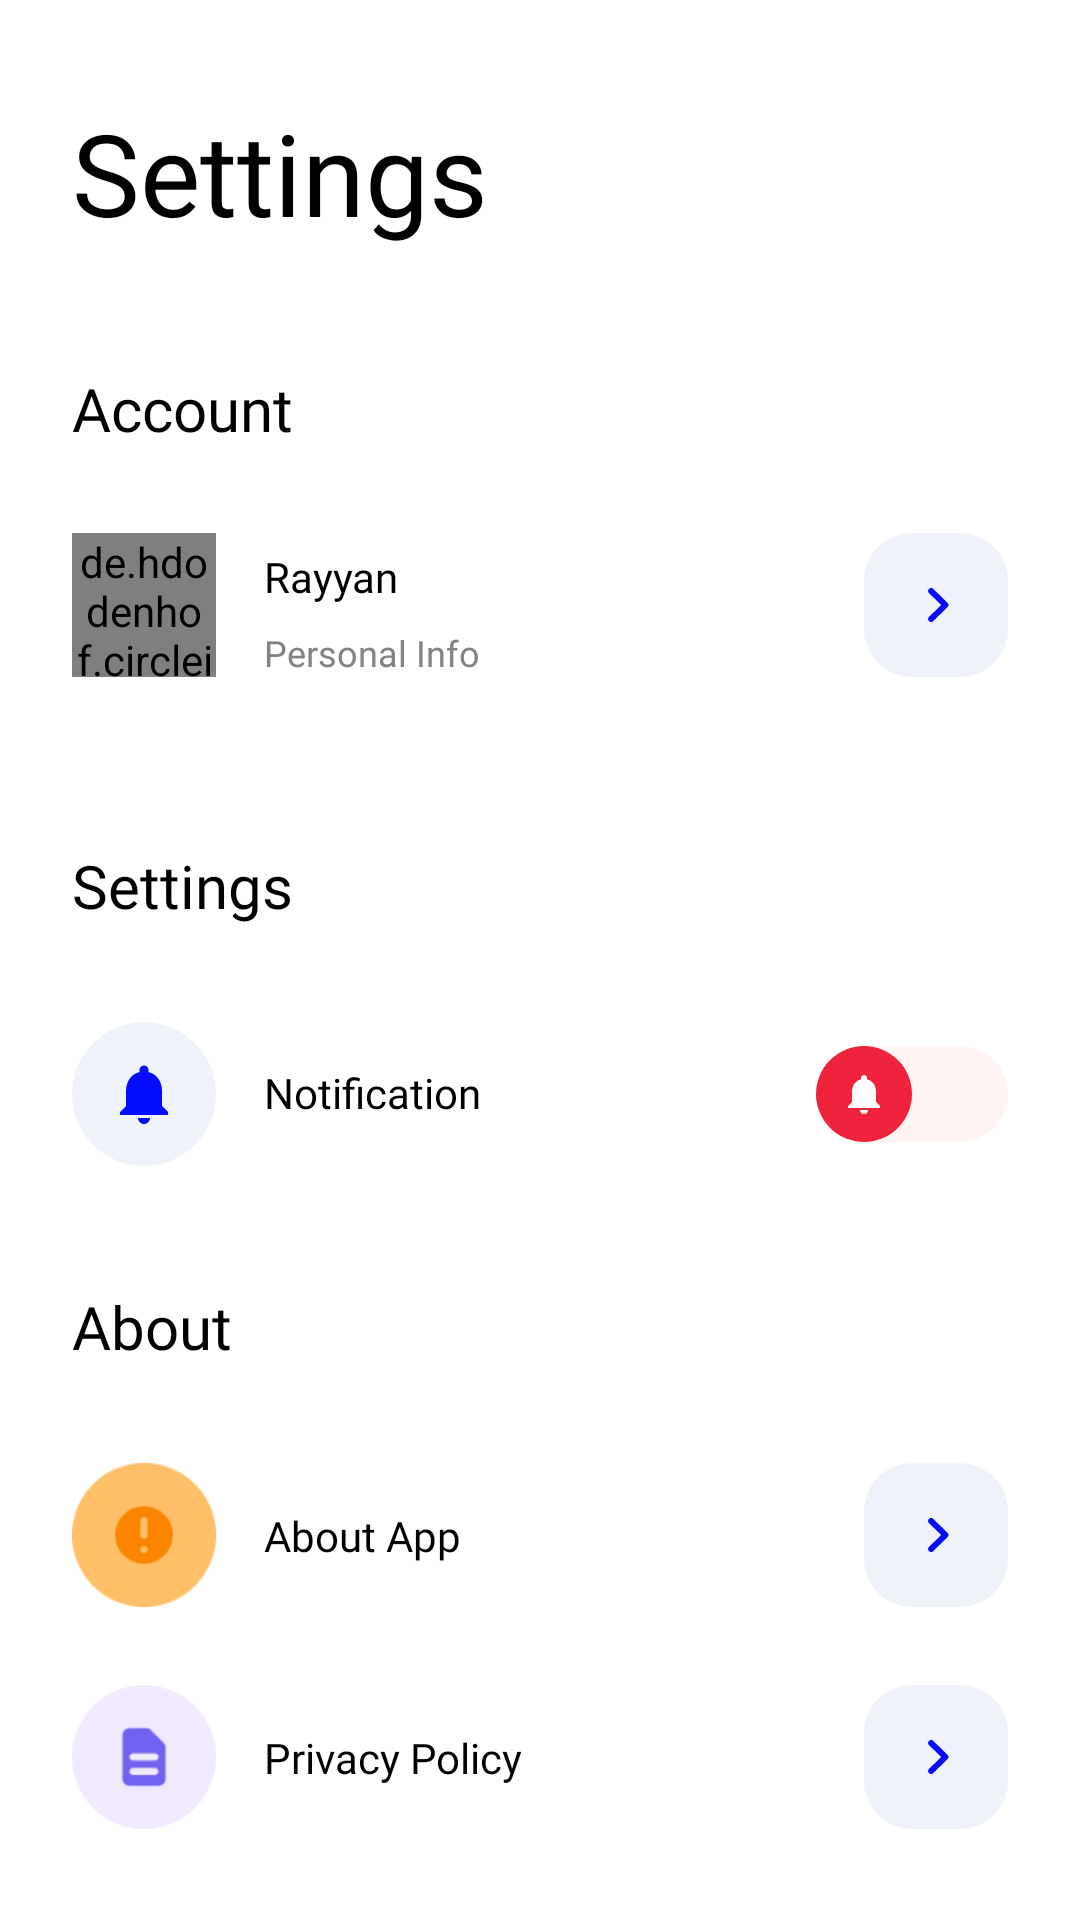

Icons on this 1080x1920 Android screen, each with the point to tap as [x,y]:
cheveron right: [936,605], [936,1535], [936,1757]
deskripsi: [144,1757]
